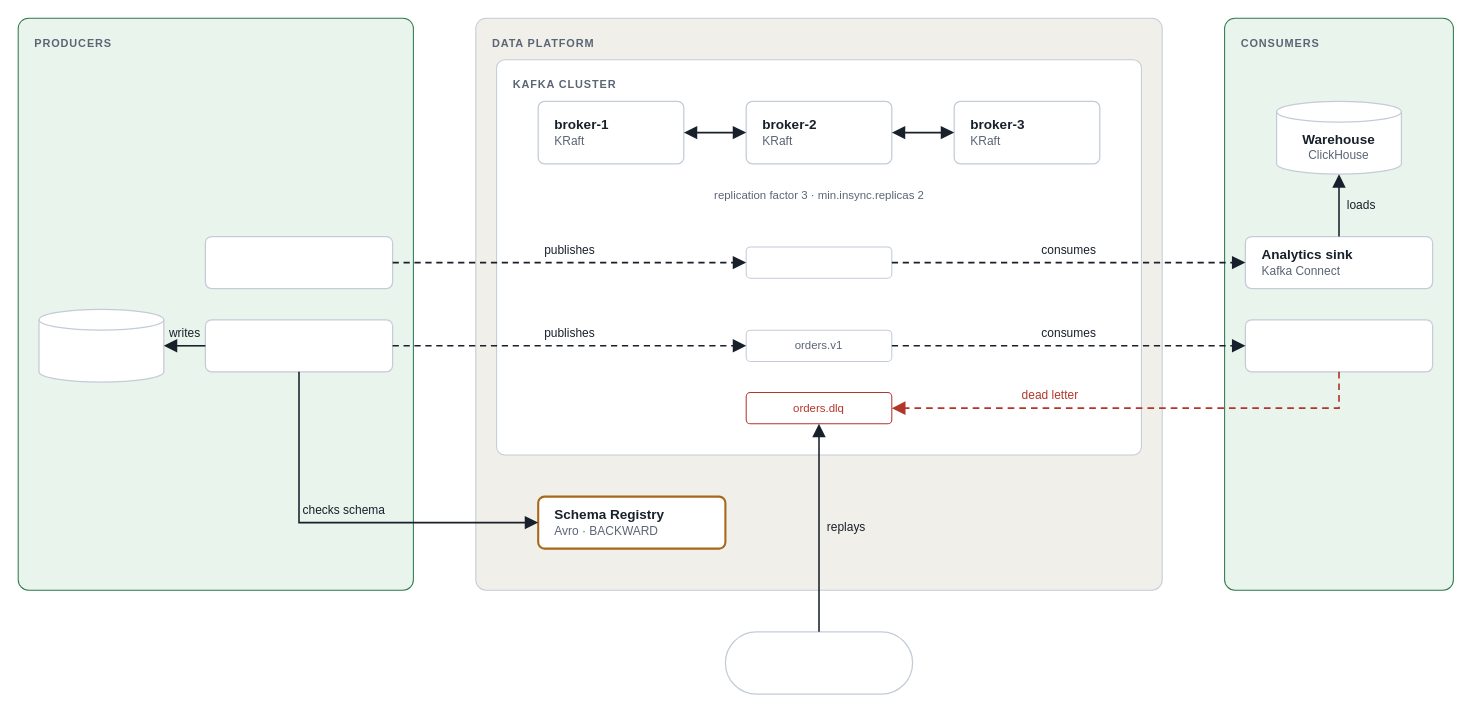
Some shapes in this 1472 by 713 pixel diagram are drawn without their labels. Each missing label, with the centre of its shape:
"Fulfilment service Kotlin" belongs at point (1338, 345).
"On-call engineer person" belongs at point (818, 662).
"Order service Java · Spring Boot" belongs at point (298, 345).
"Orders DB PostgreSQL" belongs at point (101, 345).
"Payment service Go" belongs at point (298, 262).
"payments.v1" belongs at point (818, 262).
